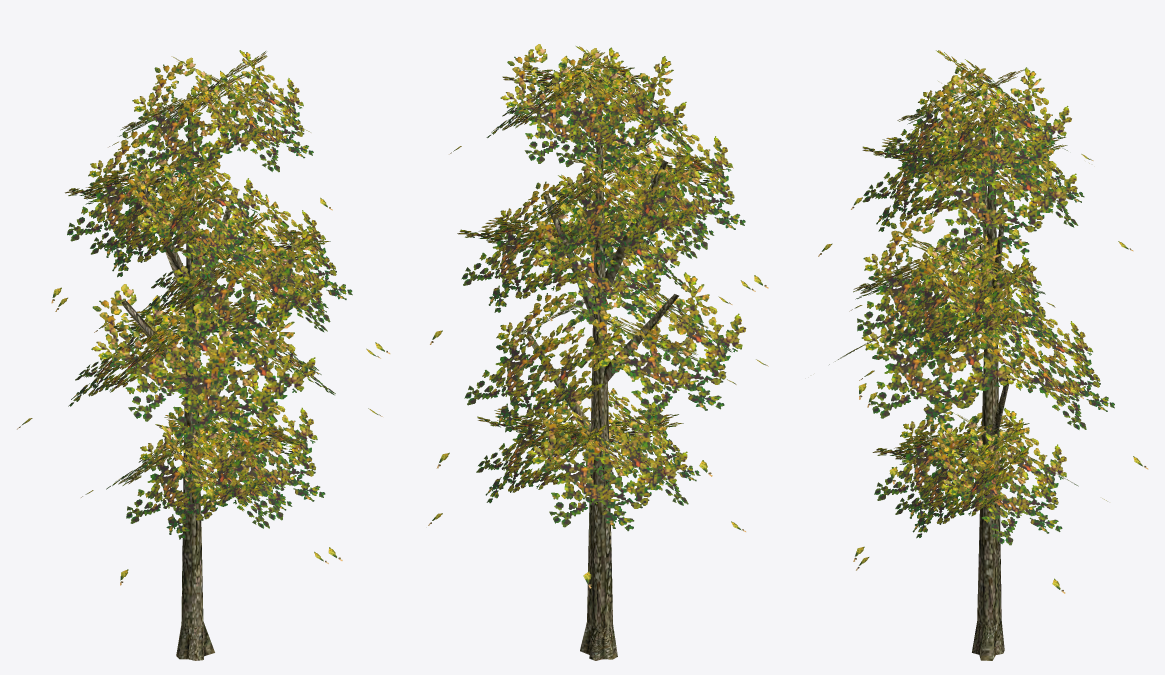
Rendered from flora_tree_oak_aut.glb.
The picture shows the model from 3 angles, left to right: view 1: azimuth 30°, elevation 25°; view 2: azimuth 150°, elevation 25°; view 3: azimuth 270°, elevation 25°; orthographic projection.
Parts seen in each view (by area): view 1: flora_tree_oak_aut_part1, flora_tree_oak_aut_part0; view 2: flora_tree_oak_aut_part1, flora_tree_oak_aut_part0; view 3: flora_tree_oak_aut_part1, flora_tree_oak_aut_part0.
Boxes of the visible parts, x1=… form: flora_tree_oak_aut_part1: x1=17, y1=50, x2=390, y2=585; flora_tree_oak_aut_part0: x1=121, y1=113, x2=241, y2=660; flora_tree_oak_aut_part1: x1=428, y1=44, x2=768, y2=588; flora_tree_oak_aut_part0: x1=527, y1=102, x2=678, y2=660; flora_tree_oak_aut_part1: x1=818, y1=50, x2=1148, y2=593; flora_tree_oak_aut_part0: x1=972, y1=101, x2=1010, y2=660.
Bounding box in the file's own units: 10.16 × 19.4 × 10.39.
2 materials, 2 textured.
